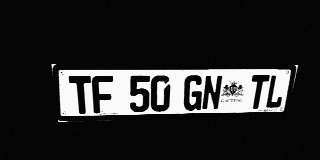0: (150, 75, 171, 112)
5: (130, 75, 150, 112)
F: (91, 76, 114, 113)
G: (183, 75, 204, 111)
L: (264, 75, 287, 108)
N: (201, 75, 223, 110)
T: (68, 76, 93, 114), (247, 75, 270, 109)
